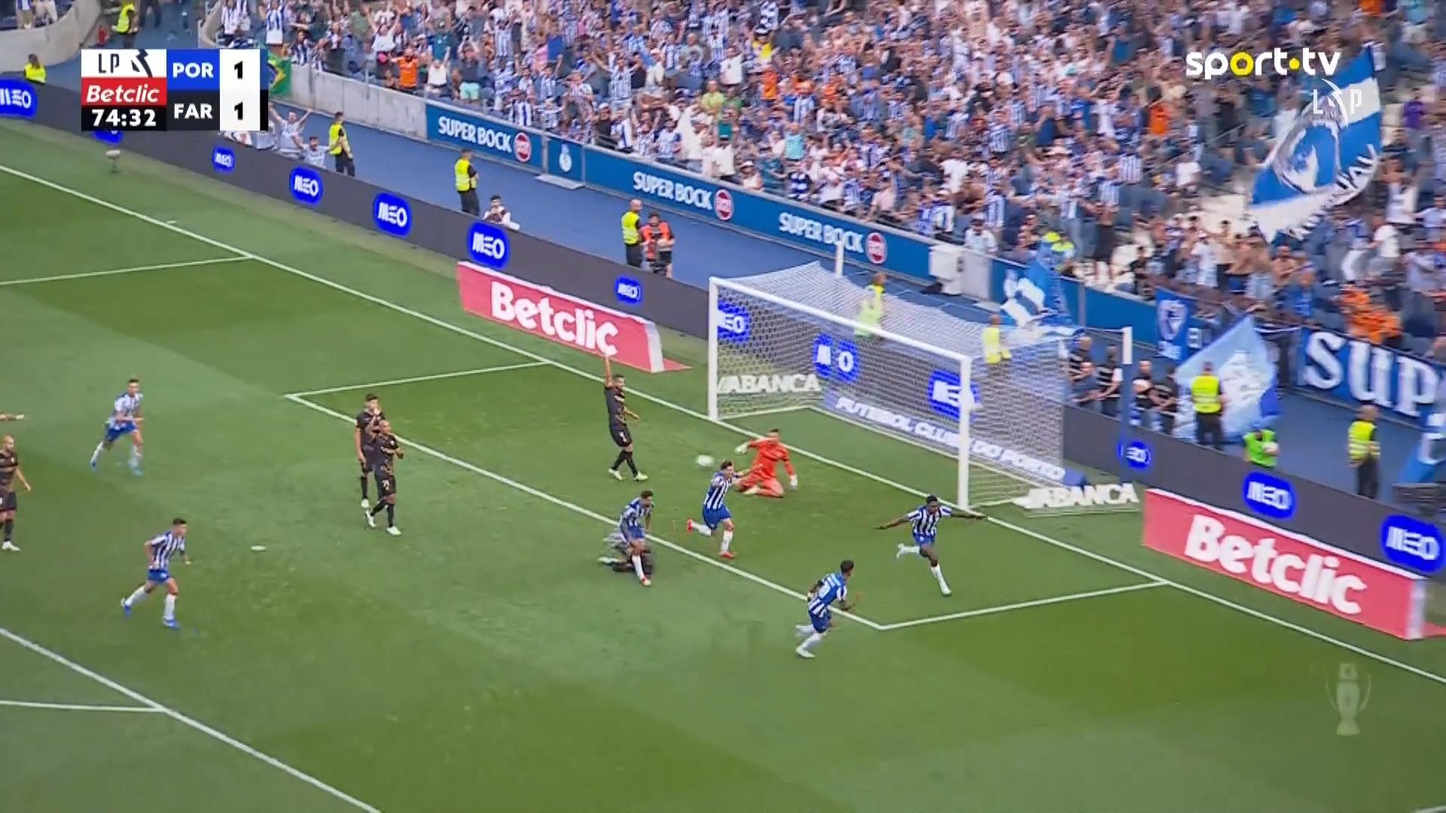ball: (695, 453, 713, 467)
goalkeeper: (733, 427, 798, 498)
player: (874, 492, 985, 596), (119, 516, 192, 629), (792, 558, 858, 659), (685, 458, 749, 559), (600, 353, 648, 482), (88, 377, 145, 475), (601, 488, 656, 586), (362, 417, 404, 534), (354, 392, 386, 509), (0, 434, 31, 551)
